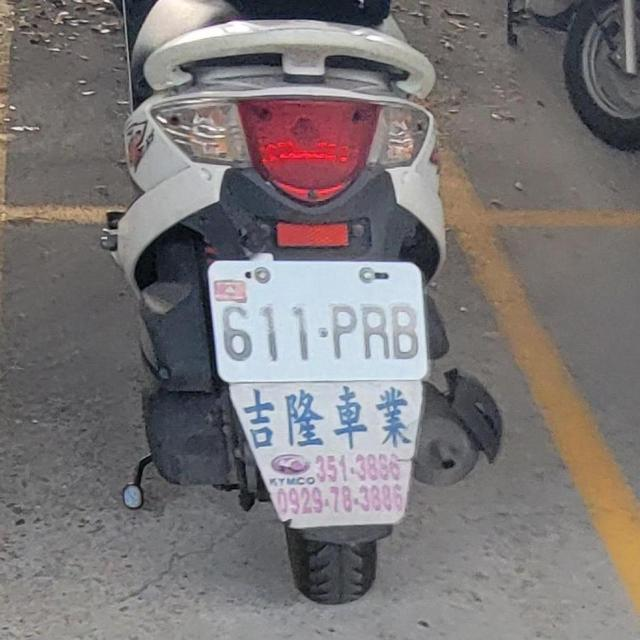W: (204, 252, 430, 387)
